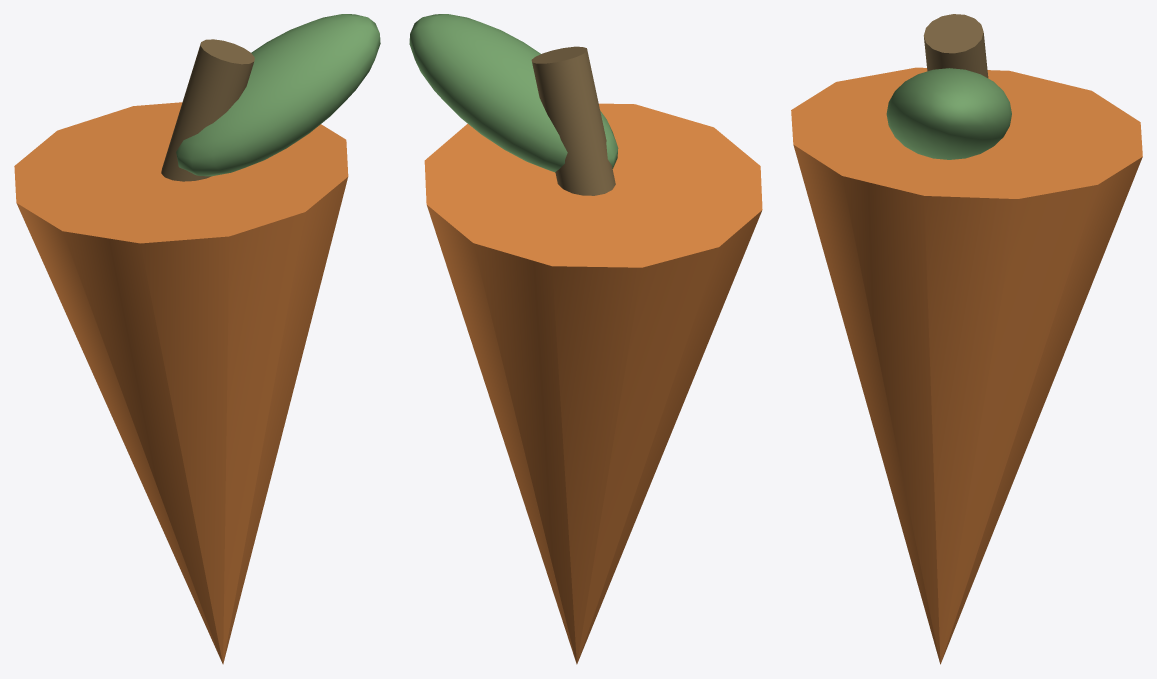
File: carrot.glb
The picture shows the model from 3 angles, left to right: view 1: azimuth 30°, elevation 25°; view 2: azimuth 150°, elevation 25°; view 3: azimuth 270°, elevation 25°; orthographic projection. The views are drawn at different scales.
Parts seen in each view (by area): view 1: cone, ball, tube; view 2: cone, ball, tube; view 3: cone, ball, tube.
Part boxes in pixels (box(x1,y1,x2,y2)): cone: box(14, 102, 348, 664); ball: box(176, 14, 380, 176); tube: box(161, 39, 254, 181); cone: box(424, 103, 762, 664); ball: box(409, 14, 618, 172); tube: box(531, 46, 615, 195); cone: box(791, 67, 1142, 664); ball: box(886, 68, 1011, 159); tube: box(923, 14, 988, 78).
Bounding box in the file's own units: 0.4548 × 0.8047 × 0.398.
